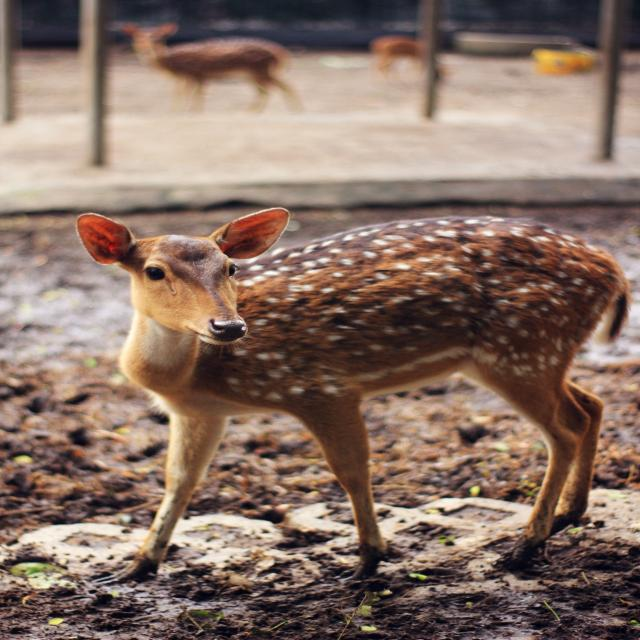animal: (74, 208, 626, 576), (117, 22, 345, 114)
